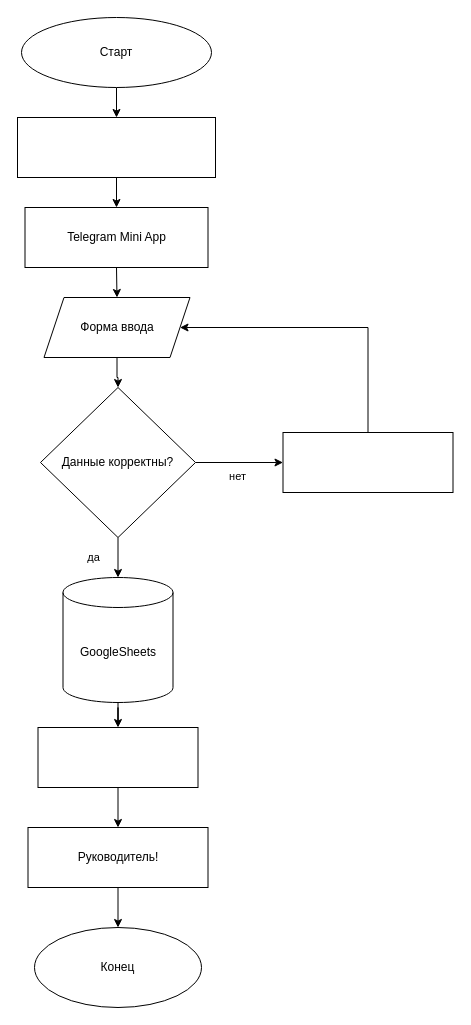
The diagram is 471 pixels wide and 1025 high, and some of its shapes have lost their labels. Each missing label, with the centre of its shape:
"Обновить KPI Dashboard" goes at point 117,757.
"Показать сообщение" goes at point 367,462.
"Пользователь" goes at point 116,147.
